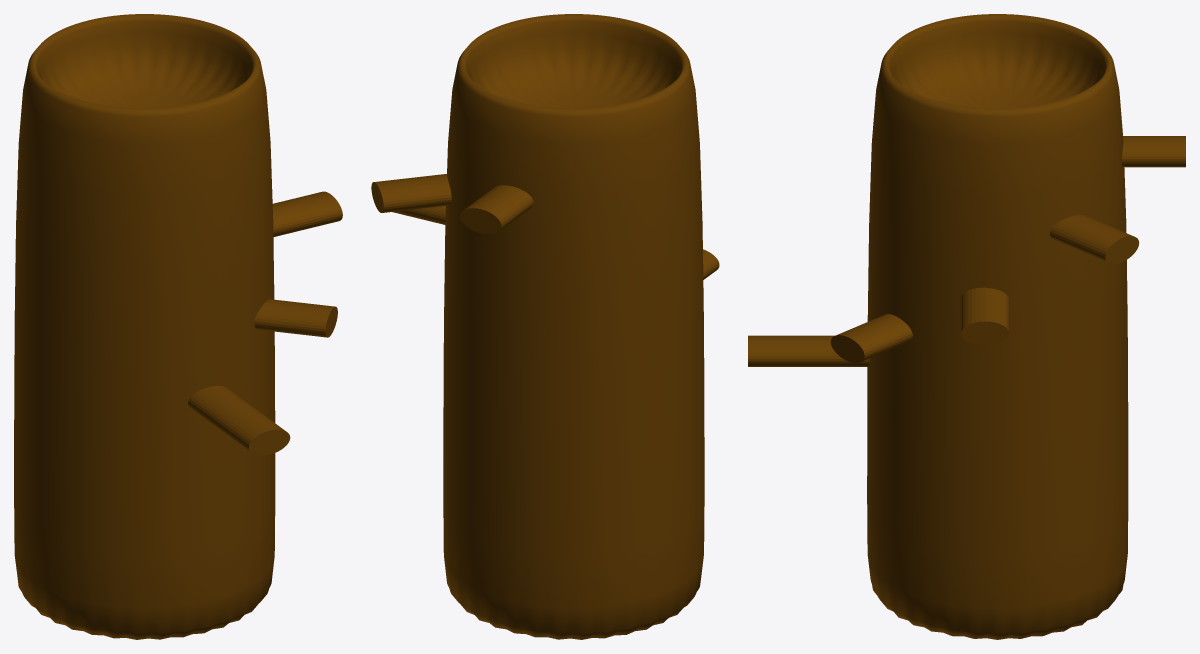
The model's file is SquirrelHome.fbx.
3 renders of one model, left to right at view 1: azimuth 30°, elevation 25°; view 2: azimuth 150°, elevation 25°; view 3: azimuth 270°, elevation 25°, orthographic.
Visible parts, largest first — view 1: Cylinder; view 2: Cylinder; view 3: Cylinder.
Boxes of the visible parts, box(x1,y1,x2,y2) form: Cylinder: box(14, 14, 342, 639); Cylinder: box(371, 14, 719, 639); Cylinder: box(748, 14, 1185, 639).
Size of the model in its own units: 2.57 by 4.45 by 3.33.
